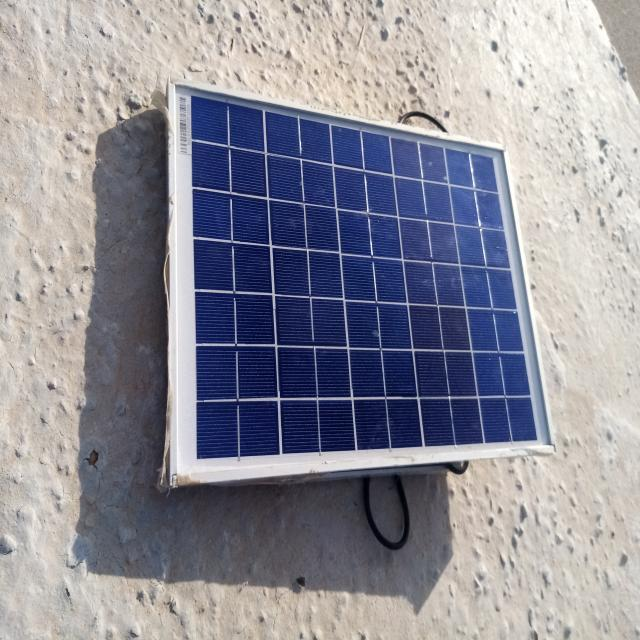no faulty: (170, 79, 555, 483)
